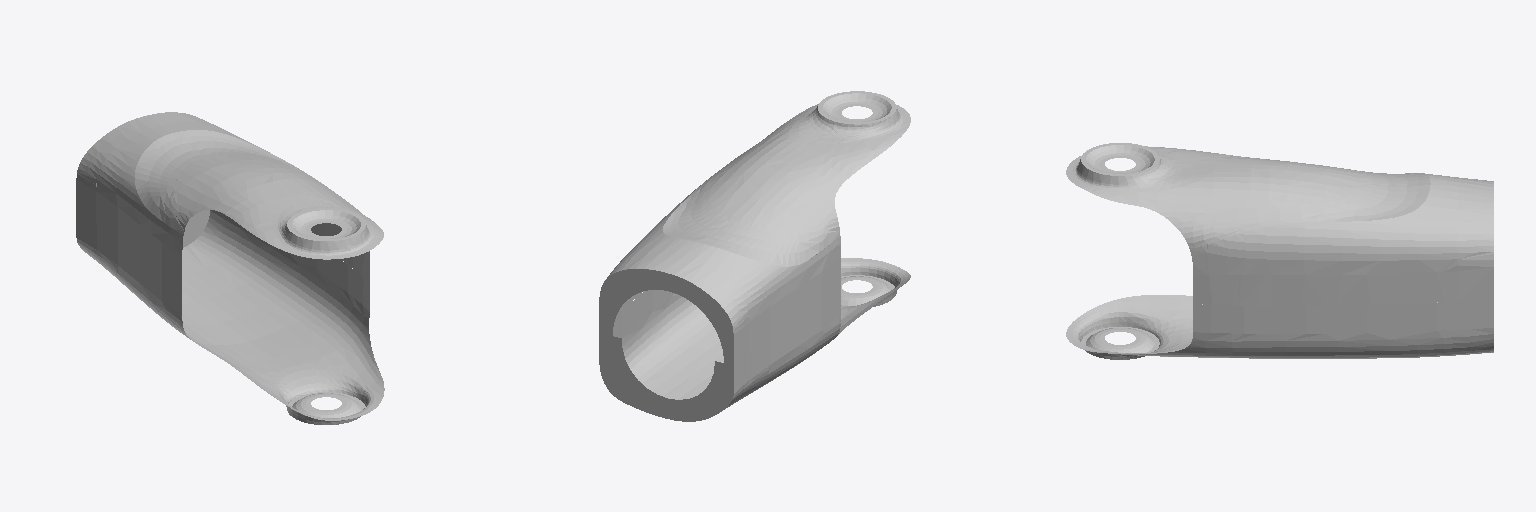
Rendered from UnterarmR_B.obj.
3 views of the same model, side by side, from view 1: azimuth 30°, elevation 25°; view 2: azimuth 150°, elevation 25°; view 3: azimuth 270°, elevation 25° (orthographic).
Parts seen in each view (by area): view 1: Stamm|Minimal-UnterarmR_(Standard)|Unterarm_rechts-1|Unterarm_re; view 2: Stamm|Minimal-UnterarmR_(Standard)|Unterarm_rechts-1|Unterarm_re; view 3: Stamm|Minimal-UnterarmR_(Standard)|Unterarm_rechts-1|Unterarm_re.
Part boxes in pixels (x1,y1,x2,y2): Stamm|Minimal-UnterarmR_(Standard)|Unterarm_rechts-1|Unterarm_re: (76, 112, 384, 424); Stamm|Minimal-UnterarmR_(Standard)|Unterarm_rechts-1|Unterarm_re: (599, 91, 910, 421); Stamm|Minimal-UnterarmR_(Standard)|Unterarm_rechts-1|Unterarm_re: (1066, 143, 1493, 359).
Bounding box in the file's own units: 0.0823 × 0.0977 × 0.2059.